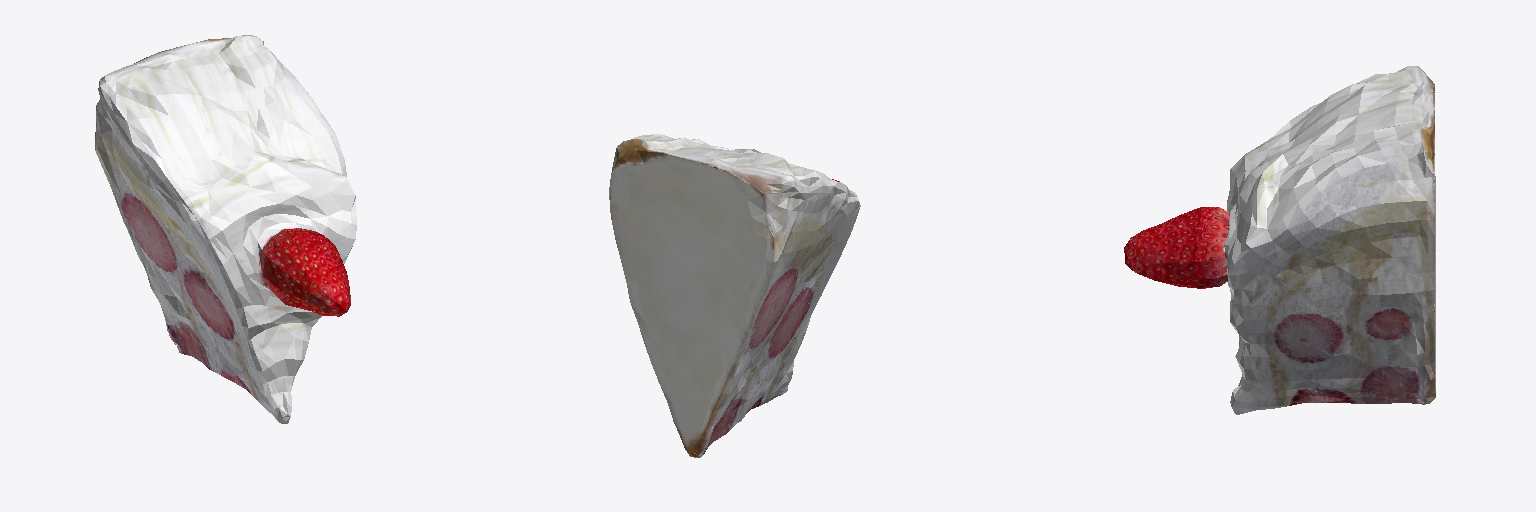
The picture shows the model from 3 angles: view 1: azimuth 30°, elevation 25°; view 2: azimuth 150°, elevation 25°; view 3: azimuth 270°, elevation 25°; orthographic projection.
Bounding box in the file's own units: 0.635 × 1 × 0.9123.
1 materials, 1 textured.